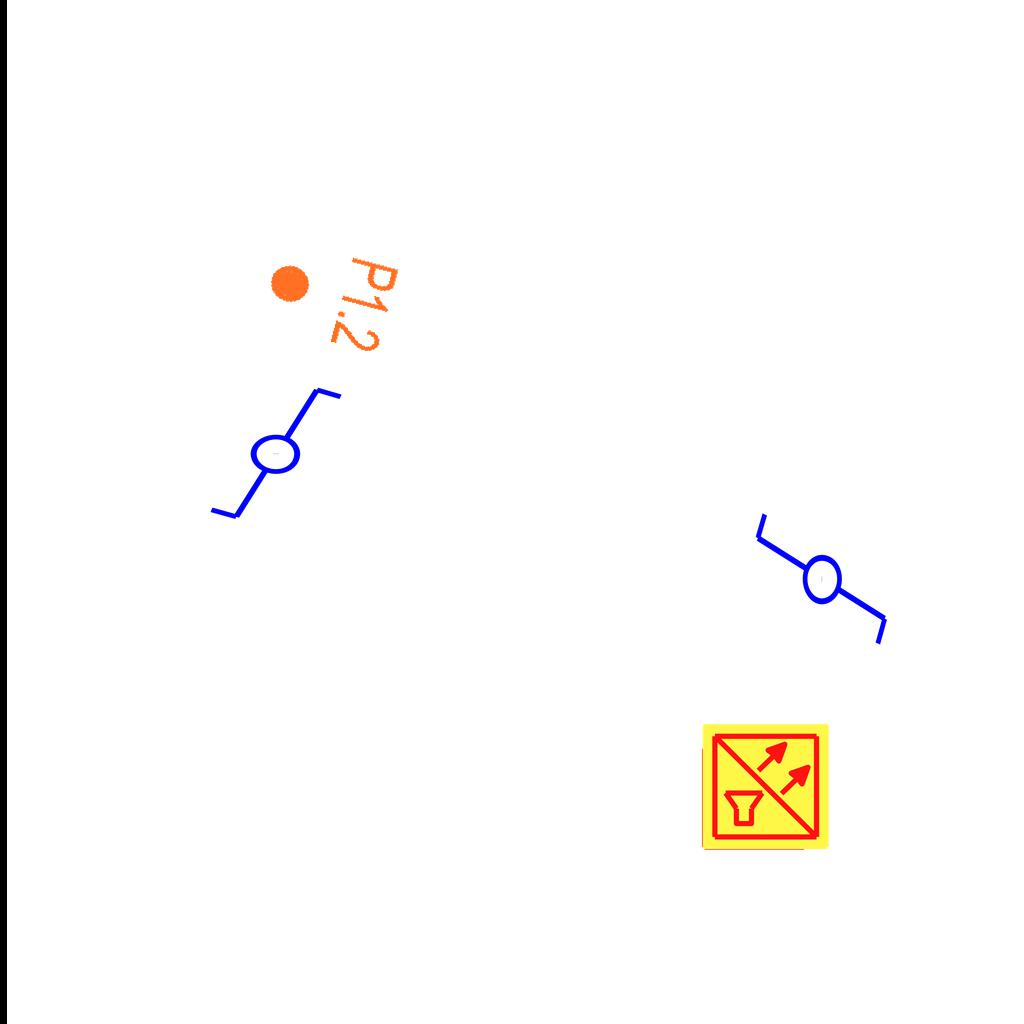Downlight_LED_Einbauleuchten_Flur: (255, 234, 404, 358)
OKW_Multisensormelder_(Kombination_optischer_Rauch-Kahlenmonoxid_Waerme-Melder): (700, 721, 832, 853)
Wechselschalter: (748, 509, 892, 666), (189, 380, 346, 524)
